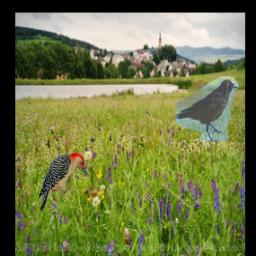Crow: (174, 76, 238, 142)
Woodpecker: (38, 152, 90, 213)
